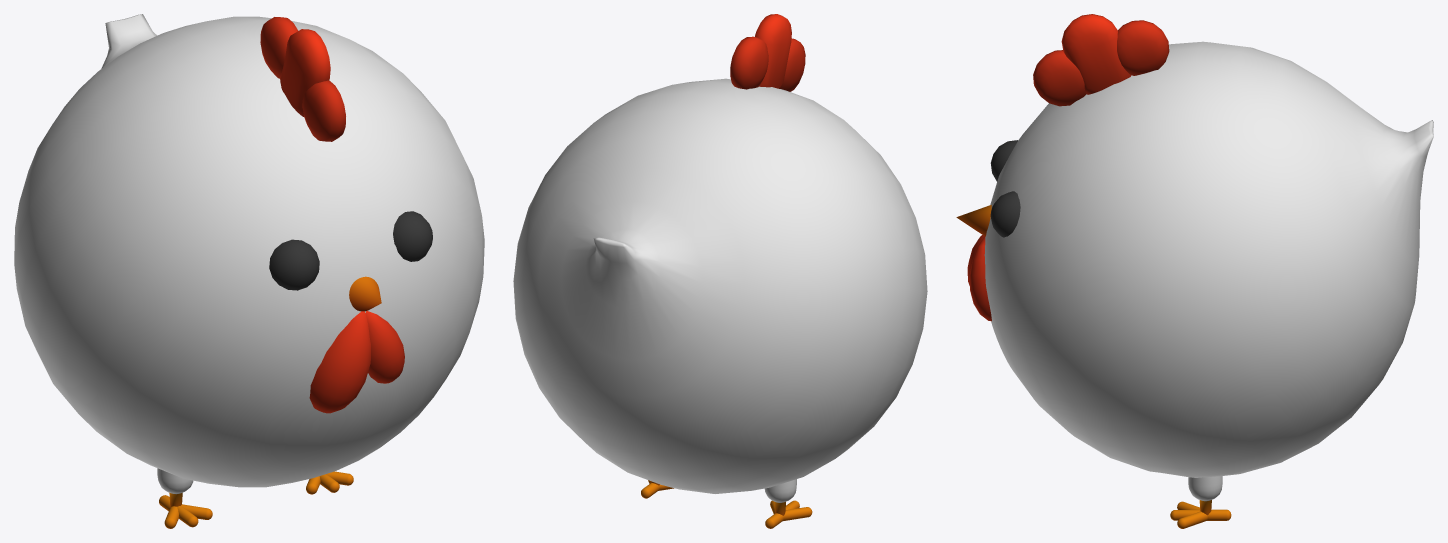
Rendered from Chiken2.fbx.
The picture shows the model from 3 angles, left to right: view 1: azimuth 30°, elevation 25°; view 2: azimuth 150°, elevation 25°; view 3: azimuth 270°, elevation 25°; orthographic projection. The views are drawn at different scales.
Parts seen in each view (by area): view 1: Chiken2_LP; view 2: Chiken2_LP; view 3: Chiken2_LP.
Boxes of the visible parts, x1,y1,x2,y2 form: Chiken2_LP: (14,14,484,528); Chiken2_LP: (513,14,927,528); Chiken2_LP: (956,14,1433,528).
Bounding box in the file's own units: 200 × 238 × 218.
Materials: 1 (1 with a texture image).
